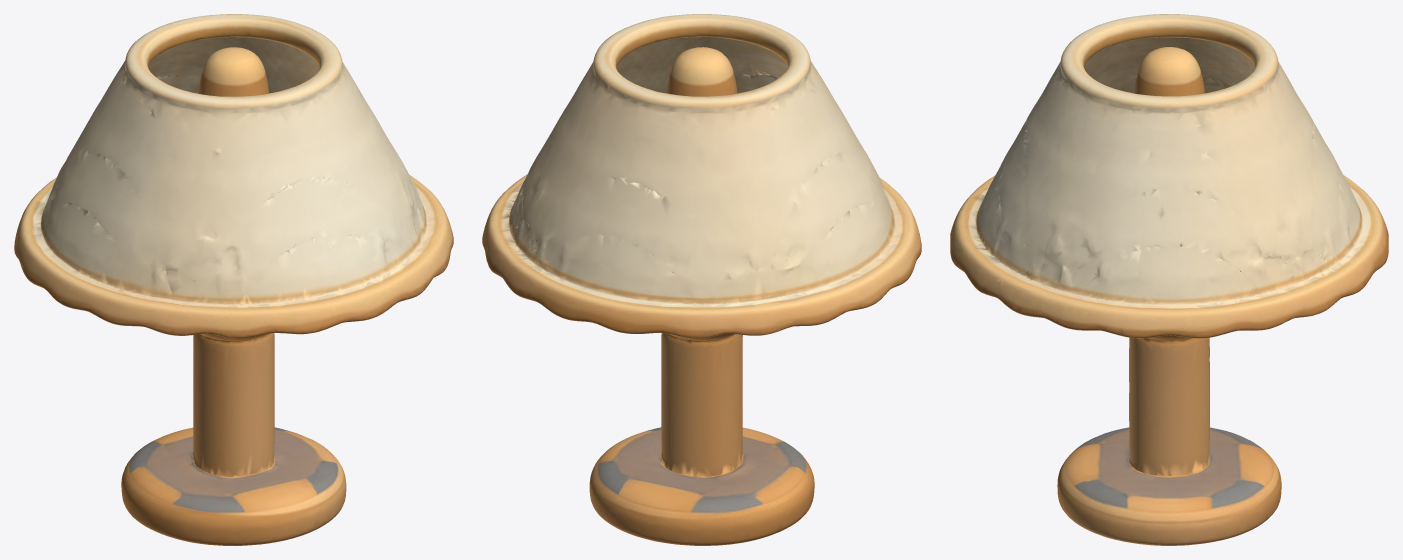
File: lamp.glb
3 views of the same model, side by side, from view 1: azimuth 30°, elevation 25°; view 2: azimuth 150°, elevation 25°; view 3: azimuth 270°, elevation 25° (orthographic).
Visible parts, largest first — view 1: tripo_node_ec8aba98-ac5e-4a60-8fc1-9520e9d20010; view 2: tripo_node_ec8aba98-ac5e-4a60-8fc1-9520e9d20010; view 3: tripo_node_ec8aba98-ac5e-4a60-8fc1-9520e9d20010.
Boxes of the visible parts, x1,y1,x2,y2 form: tripo_node_ec8aba98-ac5e-4a60-8fc1-9520e9d20010: [14, 14, 453, 545]; tripo_node_ec8aba98-ac5e-4a60-8fc1-9520e9d20010: [482, 14, 921, 545]; tripo_node_ec8aba98-ac5e-4a60-8fc1-9520e9d20010: [950, 14, 1388, 545].
Size of the model in its own units: 0.8705 by 1 by 0.8694.
Materials: 1 (1 with a texture image).
